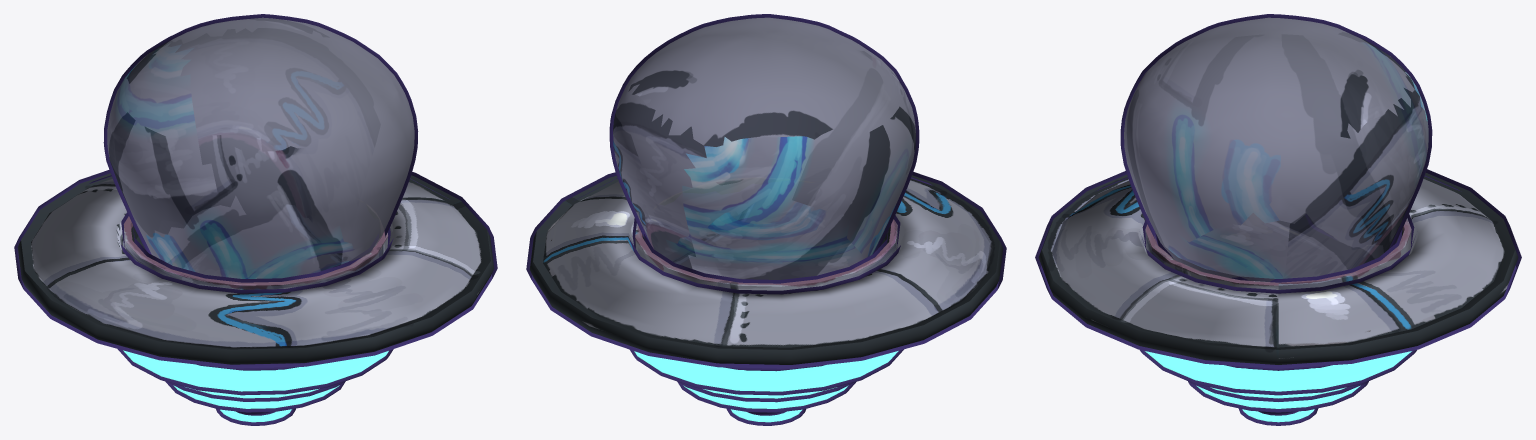
The model's file is UFO 1.fbx.
3 views of the same model, side by side, from view 1: azimuth 30°, elevation 25°; view 2: azimuth 150°, elevation 25°; view 3: azimuth 270°, elevation 25° (orthographic).
Visible parts, largest first — view 1: pSphere4; view 2: pSphere4; view 3: pSphere4.
Part boxes in pixels (x1,y1,x2,y2): pSphere4: (14,14,497,425); pSphere4: (526,14,1006,425); pSphere4: (1035,14,1521,425).
Size of the model in its own units: 524 by 453 by 524.
